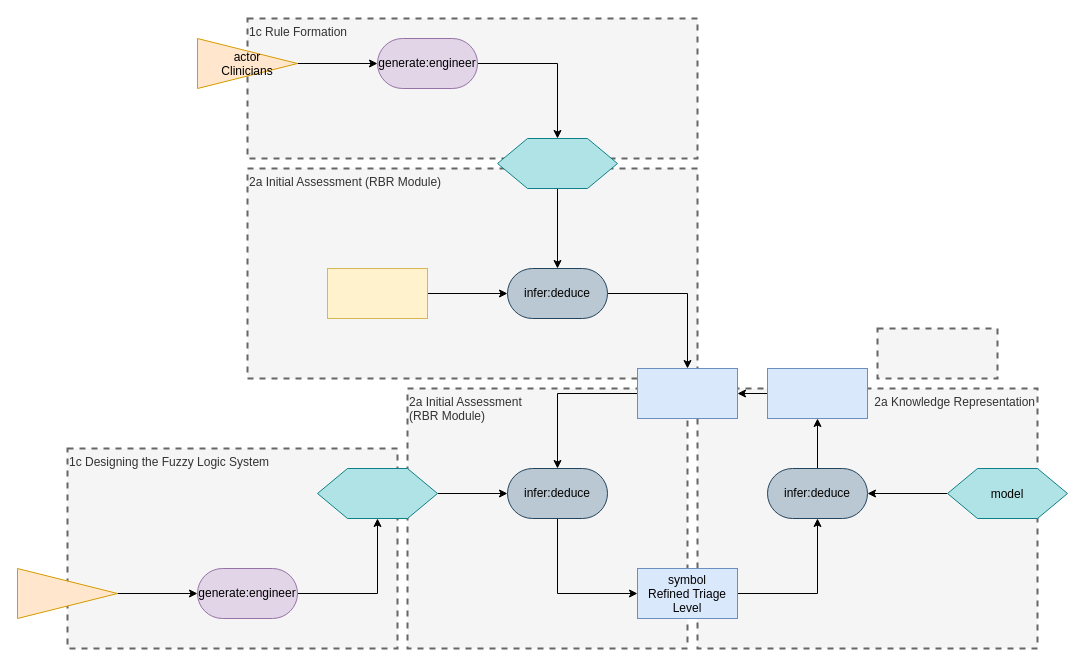
Some shapes in this 1085 by 666 pixel diagram are drawn without their labels. Here are the shapes that lost their labels. From the top down, the centre of each, then its label:
the point at 557,163: model:semantic RBR Module
the point at 377,293: data Patient Measurements
the point at 937,353: added model and extra symbol
the point at 687,393: symbol Triage Level Recommendations
the point at 817,393: symbol
the point at 377,493: model:semantic FLC
the point at 67,593: actor Experts
